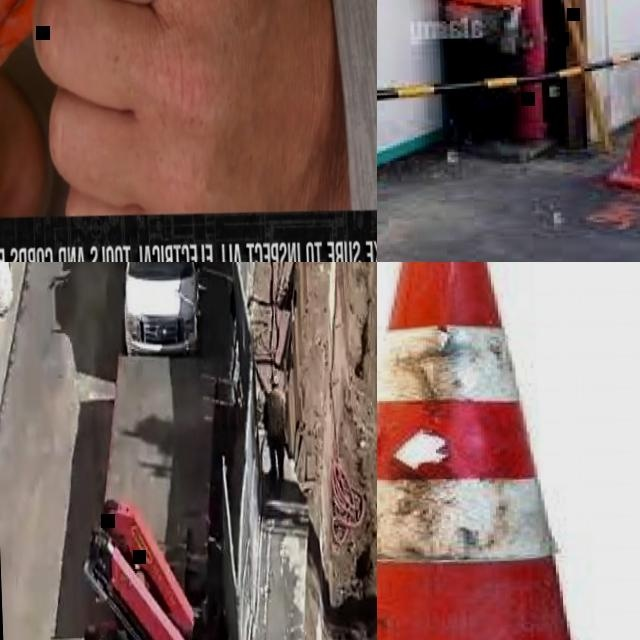Hardhat: (268, 373, 280, 383)
Person: (0, 0, 377, 225), (427, 0, 582, 159), (261, 372, 288, 480)
Safety Cone: (377, 262, 640, 640), (608, 24, 640, 191)
machinery: (77, 493, 201, 640)
vehicle: (115, 262, 206, 356)
